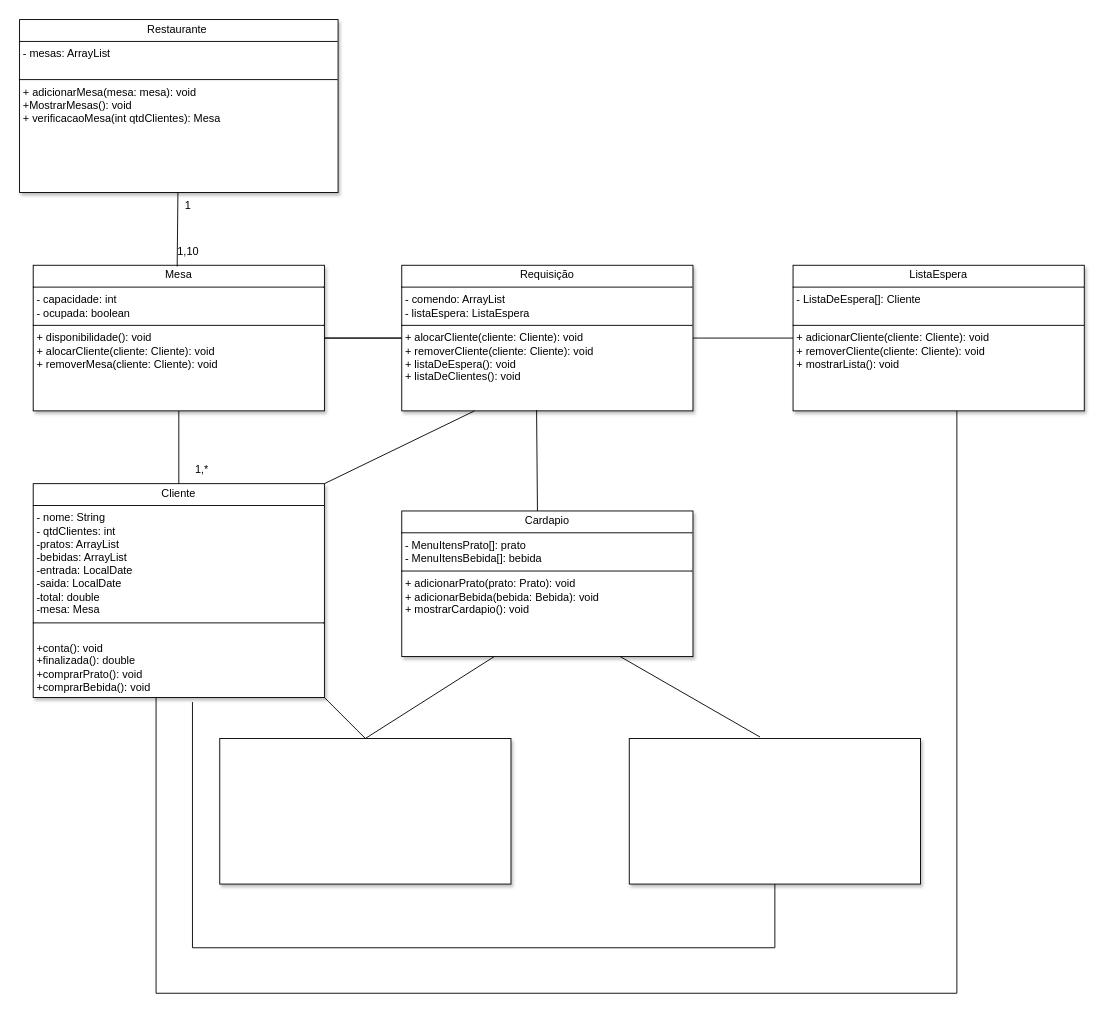
This 1106x1010 diagram has some shape labels left out. Each missing label, with the centre of its shape:
"Bebida - nome: string - preco: double" goes at [775,812].
"Prato - nome: string - preco: double" goes at [365,812].
